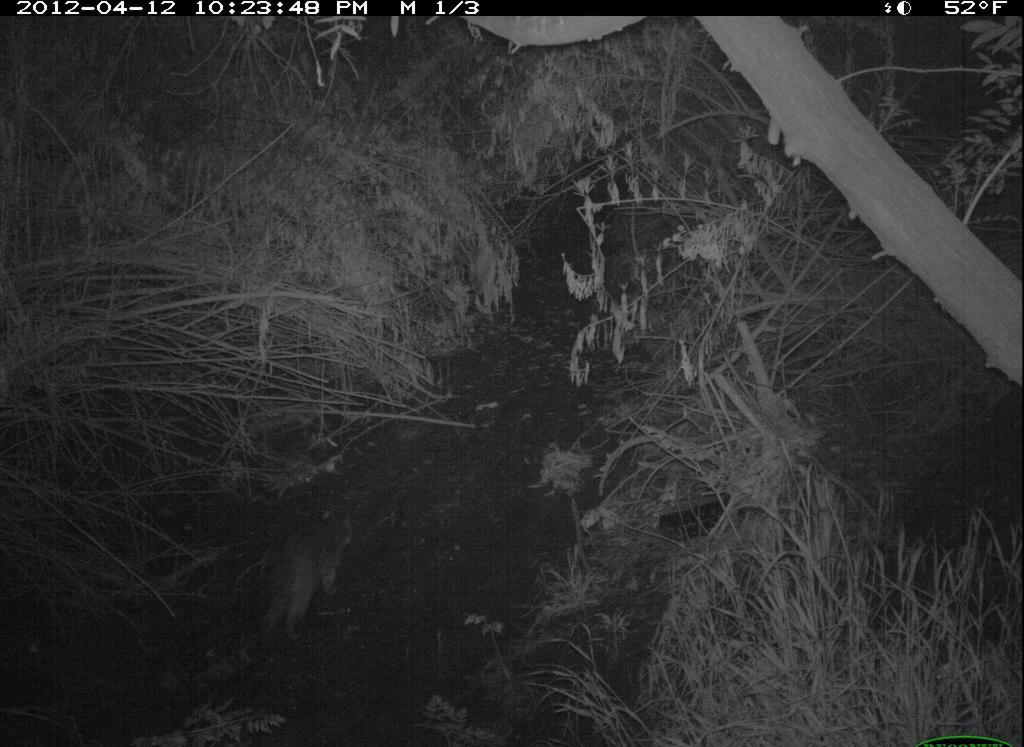raccoon: (228, 488, 373, 648)
